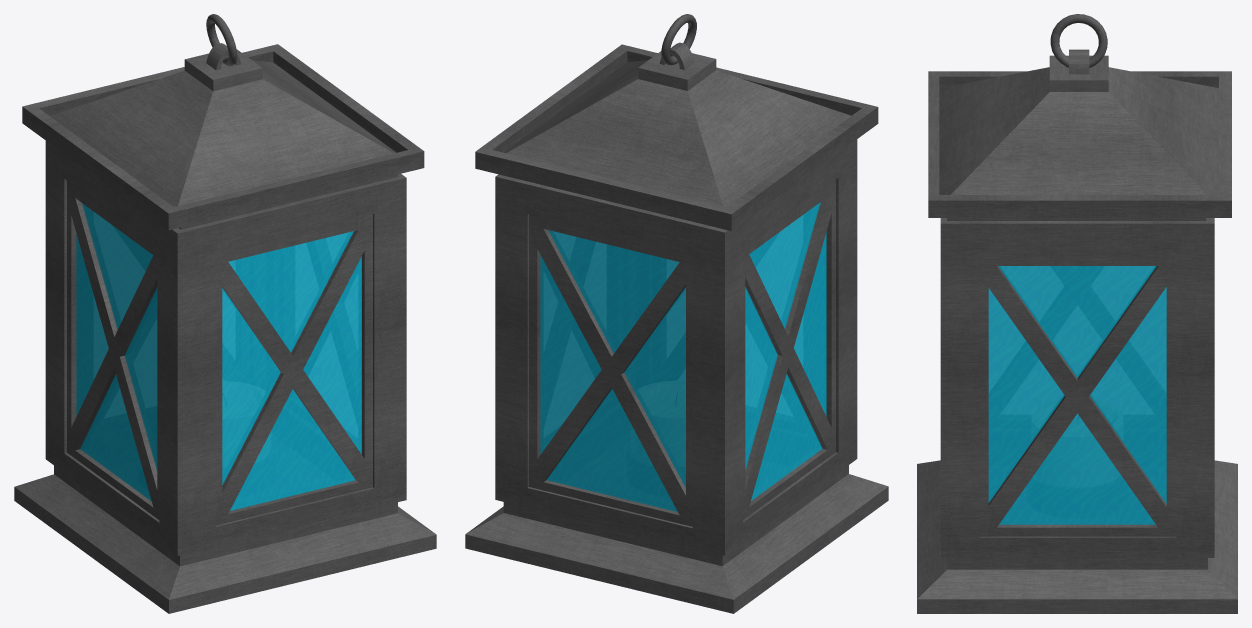
3 views of the same model, side by side, from view 1: azimuth 30°, elevation 25°; view 2: azimuth 150°, elevation 25°; view 3: azimuth 270°, elevation 25° (orthographic). The views are drawn at different scales.
Visible parts, largest first — view 1: SketchUp (×28), Ring; view 2: SketchUp (×28), Ring; view 3: SketchUp (×15), Ring.
Boxes of the visible parts, <box> form: SketchUp (×28): <box>14,44,436,613</box>; Ring: <box>206,14,237,66</box>; SketchUp (×28): <box>465,44,888,613</box>; Ring: <box>661,14,696,65</box>; SketchUp (×15): <box>917,49,1237,613</box>; Ring: <box>1050,14,1107,67</box>.
Size of the model in its own units: 197 by 197 by 358.
